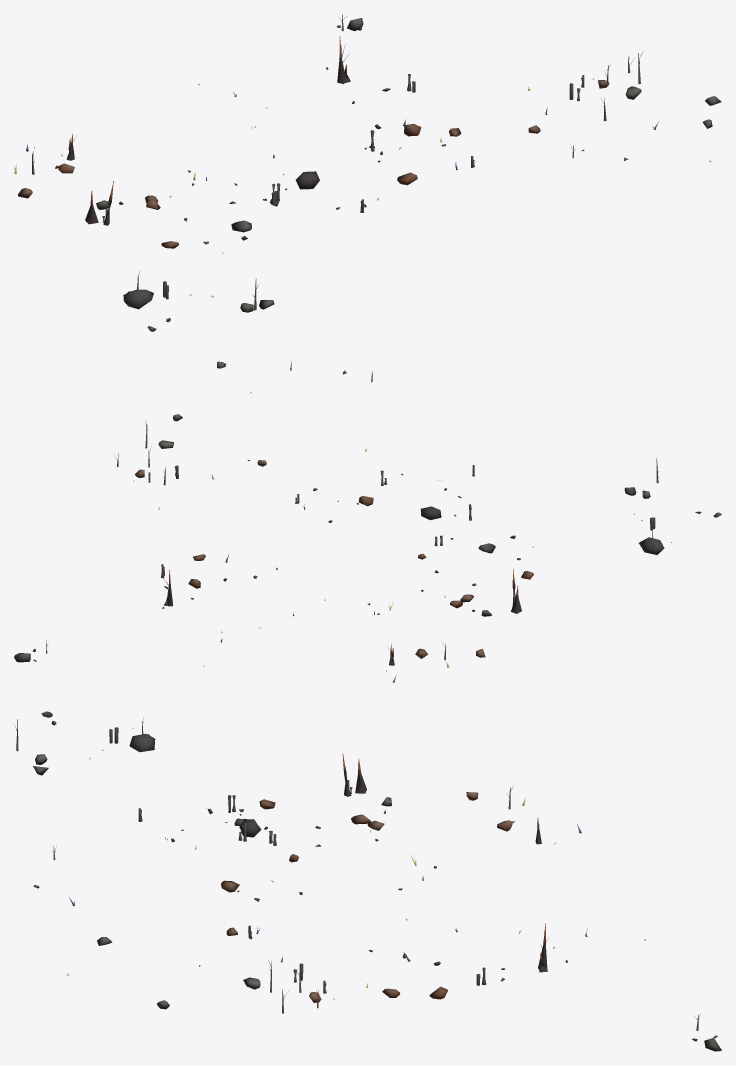
File: ash_land_scatter_c17_27_lod1.glb
The picture shows the model from 3 angles, top to bottom: view 1: azimuth 30°, elevation 25°; view 2: azimuth 150°, elevation 25°; view 3: azimuth 270°, elevation 25°; orthographic projection. The views are drawn at different scales.
Visible parts, largest first — view 1: ash_land_scatter_c17_27_lod1; view 2: ash_land_scatter_c17_27_lod1; view 3: ash_land_scatter_c17_27_lod1.
Part boxes in pixels (x1,y1,x2,y2): ash_land_scatter_c17_27_lod1: (14,14,721,331); ash_land_scatter_c17_27_lod1: (14,361,721,682); ash_land_scatter_c17_27_lod1: (14,711,721,1051).
Size of the model in its own units: 165 by 37.85 by 161.
